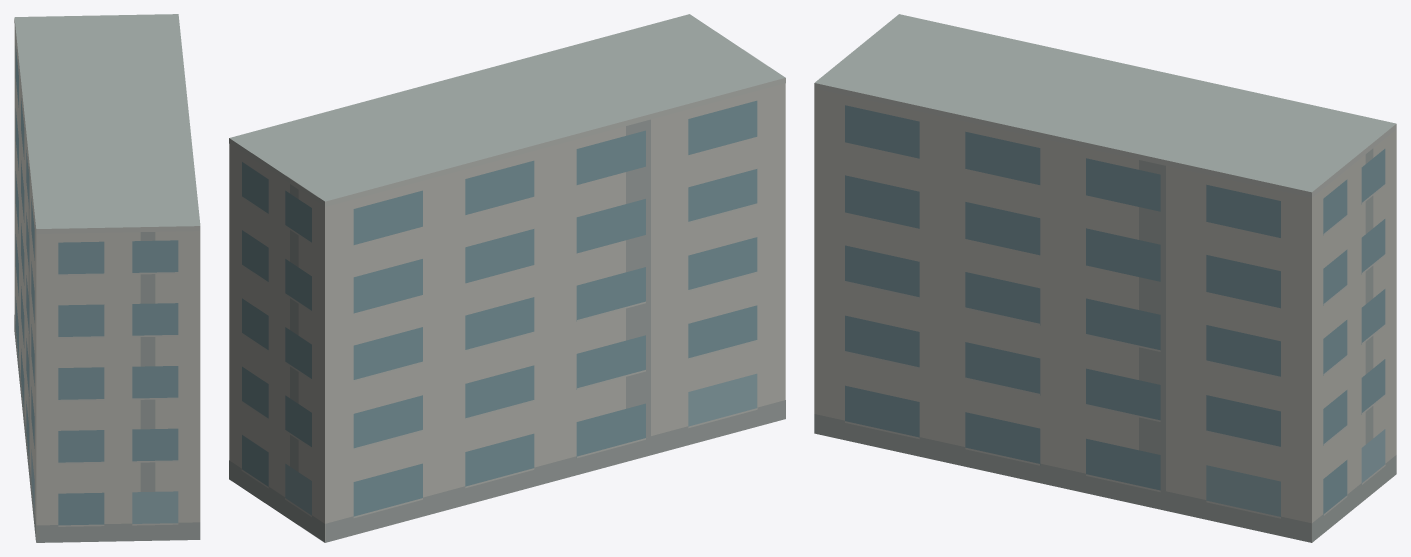
File: residential-05c865a8-d5d6-4840-be37-64bcc6f6c2ea.glb
The picture shows the model from 3 angles, left to right: view 1: azimuth 30°, elevation 25°; view 2: azimuth 150°, elevation 25°; view 3: azimuth 270°, elevation 25°; orthographic projection. The views are drawn at different scales.
Visible parts, largest first — view 1: residential-05c865a8-d5d6-4840-be37-64bcc6f6c2ea.tmp; view 2: residential-05c865a8-d5d6-4840-be37-64bcc6f6c2ea.tmp; view 3: residential-05c865a8-d5d6-4840-be37-64bcc6f6c2ea.tmp.
Boxes of the visible parts, left/top/right/bottom form: residential-05c865a8-d5d6-4840-be37-64bcc6f6c2ea.tmp: left=14, top=14, right=200, bottom=542; residential-05c865a8-d5d6-4840-be37-64bcc6f6c2ea.tmp: left=229, top=14, right=785, bottom=542; residential-05c865a8-d5d6-4840-be37-64bcc6f6c2ea.tmp: left=814, top=14, right=1396, bottom=542.
Bounding box in the file's own units: 16.65 × 15.25 × 22.96.
